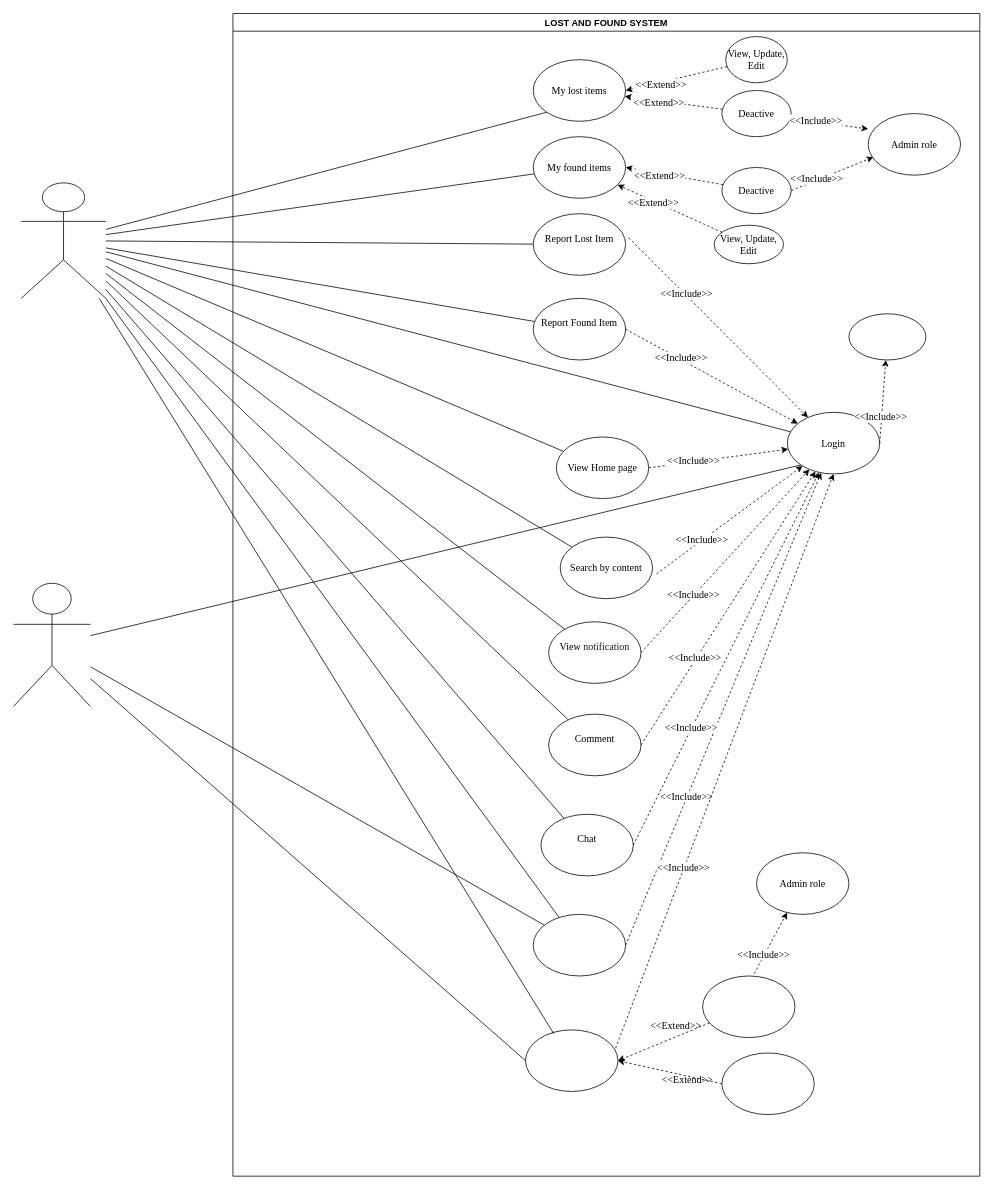
The diagram is 993 pixels wide and 1190 high, and some of its shapes have lost their labels. Here are the shapes that lost their labels. From the top down, the centre of each, then its label:
At point (63, 240): "User".
At point (887, 336): "Have @fpt.edu.vn email".
At point (51, 644): "Admin".
At point (579, 945): "View items list".
At point (748, 1006): "Deactive account".
At point (571, 1060): "Edit account info".
At point (767, 1083): "Update account info (Phone, birth, gender)".
